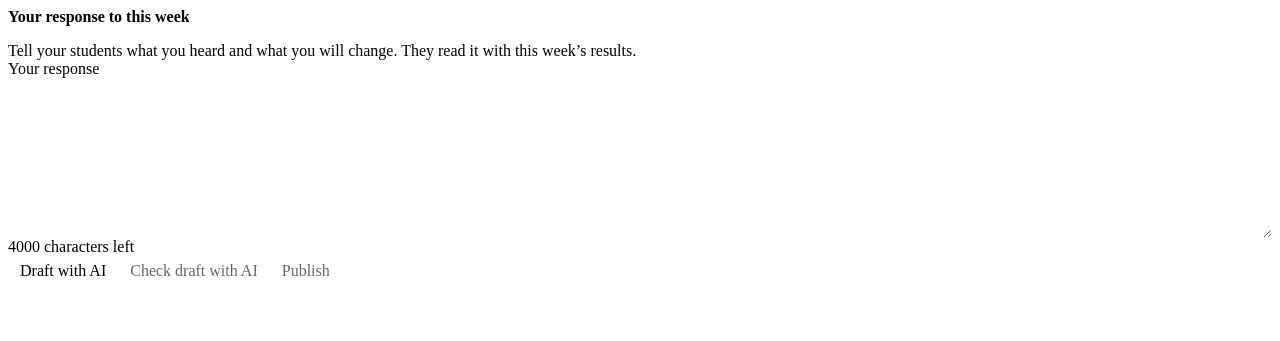
Test case: using a draft › asks before replacing text the instructor wrote, and keeps it on “Keep mine”
The image size is (1280, 341).
Type "My own words." into the text box labelled "Your response" at {"x": 640, "y": 158}, box [8,78,1272,238]
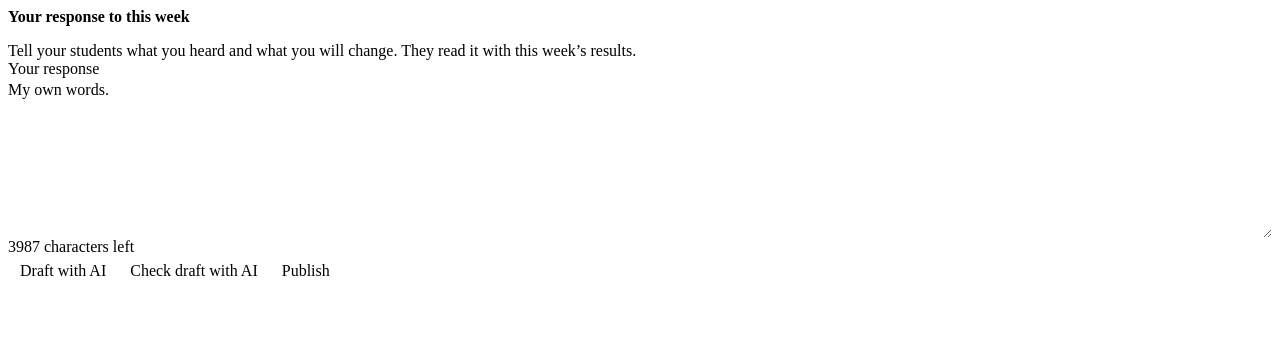
Click the button "Draft with AI" at {"x": 63, "y": 271}, box [8,256,118,286]
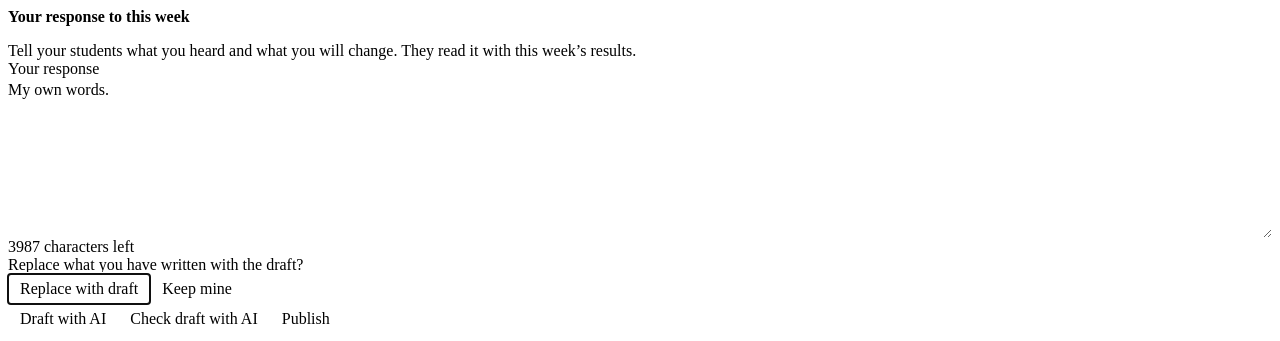
Expected: the text "Replace what you have written with the draft?" is shown, [8,256,304,273]
Click the button "Keep mine" at {"x": 197, "y": 289}, box [150,274,244,304]
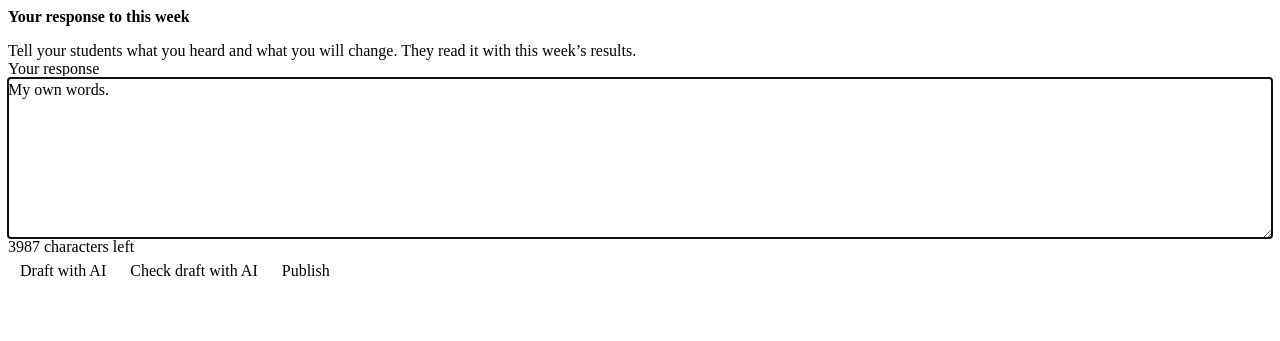
Expected: the text "Replace what you have written with the draft?" is gone
